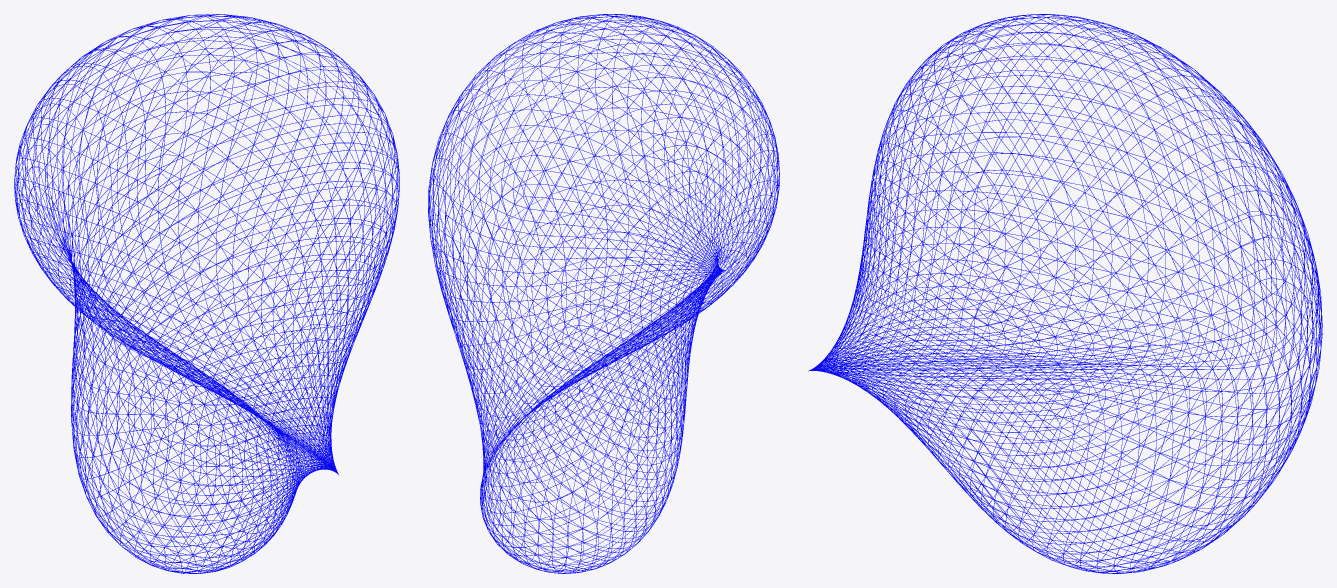
The model's file is Form6.glb.
3 renders of one model, left to right at view 1: azimuth 30°, elevation 25°; view 2: azimuth 150°, elevation 25°; view 3: azimuth 270°, elevation 25°, orthographic. The views are drawn at different scales.
Size of the model in its own units: 1.39 by 2.26 by 1.97.
